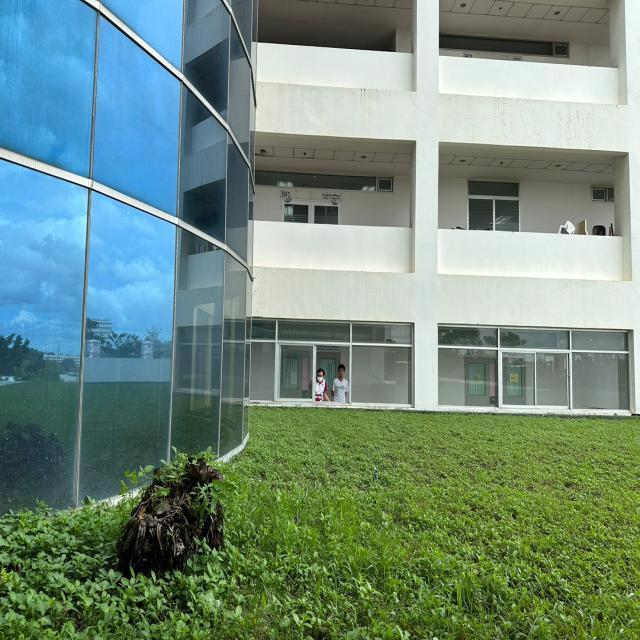lawn: (0, 409, 640, 640)
